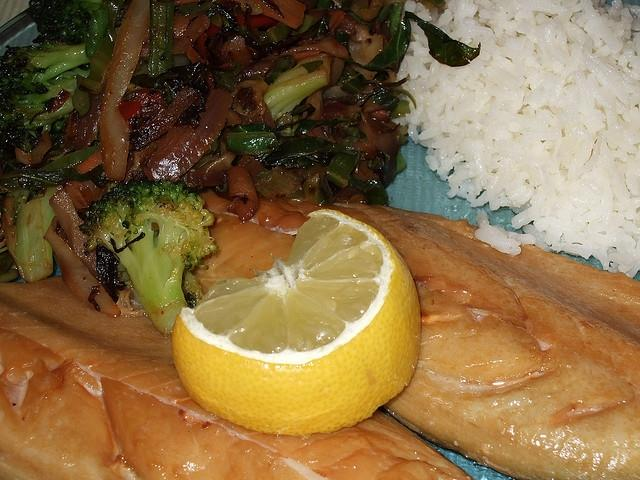broccoli: (80, 179, 220, 336), (0, 187, 58, 283), (0, 42, 91, 96), (264, 66, 328, 122), (28, 0, 100, 45), (148, 0, 174, 77)
lemon: (171, 210, 421, 436)
onion: (100, 0, 150, 181), (142, 88, 234, 182), (45, 216, 122, 317), (50, 189, 111, 292), (129, 88, 201, 152), (66, 83, 106, 151), (260, 39, 350, 61), (227, 166, 259, 221), (15, 131, 52, 164), (354, 23, 384, 63), (176, 171, 227, 187), (66, 181, 94, 207), (349, 0, 383, 20)
